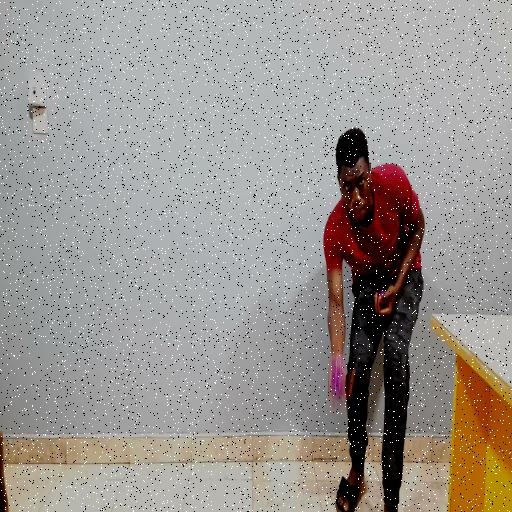plastic-ball: (329, 356, 347, 402)
